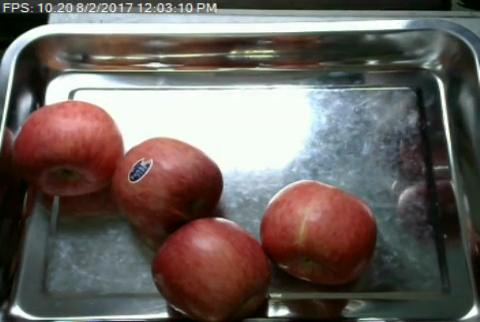apple: (259, 178, 376, 285), (155, 218, 267, 316), (113, 136, 223, 232), (15, 101, 119, 194)
